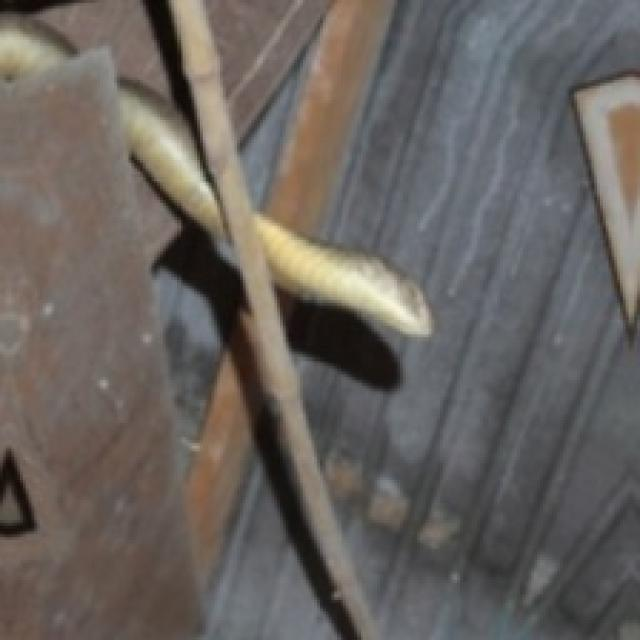king cobra: (254, 211, 431, 334), (120, 80, 223, 237)
